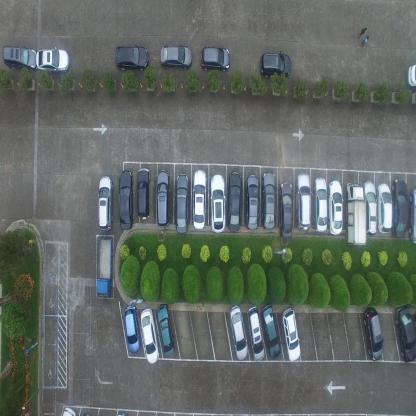car: (344, 180, 367, 245), (362, 305, 384, 362), (395, 304, 415, 365), (262, 302, 282, 360), (140, 308, 160, 365), (282, 306, 301, 362), (228, 305, 247, 361), (247, 304, 265, 363), (113, 43, 148, 73), (96, 236, 112, 299), (118, 168, 134, 230), (392, 177, 408, 239), (159, 42, 192, 72), (1, 43, 36, 71), (261, 170, 277, 230), (258, 50, 290, 80), (210, 174, 226, 233), (174, 172, 189, 234), (97, 174, 113, 232), (36, 46, 70, 73), (226, 171, 241, 232), (155, 167, 170, 228), (327, 179, 343, 236), (312, 176, 328, 232), (157, 304, 174, 356), (361, 180, 377, 235), (295, 172, 310, 230), (278, 182, 293, 240), (245, 174, 260, 232), (376, 182, 392, 235), (200, 45, 230, 73), (124, 305, 141, 354), (136, 166, 151, 219), (193, 169, 206, 230), (409, 186, 416, 244), (407, 62, 416, 88)
